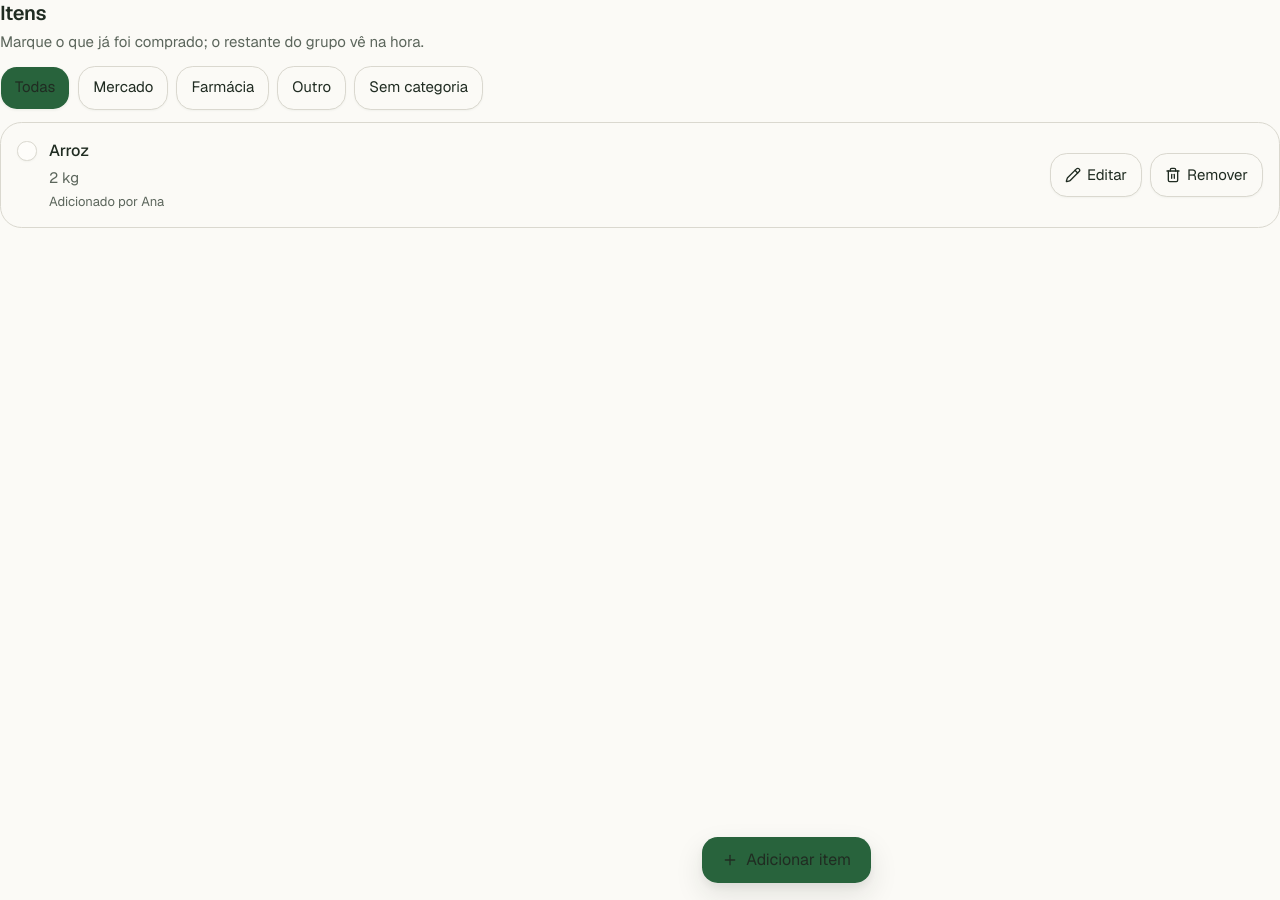
Test: ListItemsPanel › returns focus to the Edit button after closing the dialog
Step 1. Click the button "Editar" → (1096, 175), box [1050,153,1142,197]
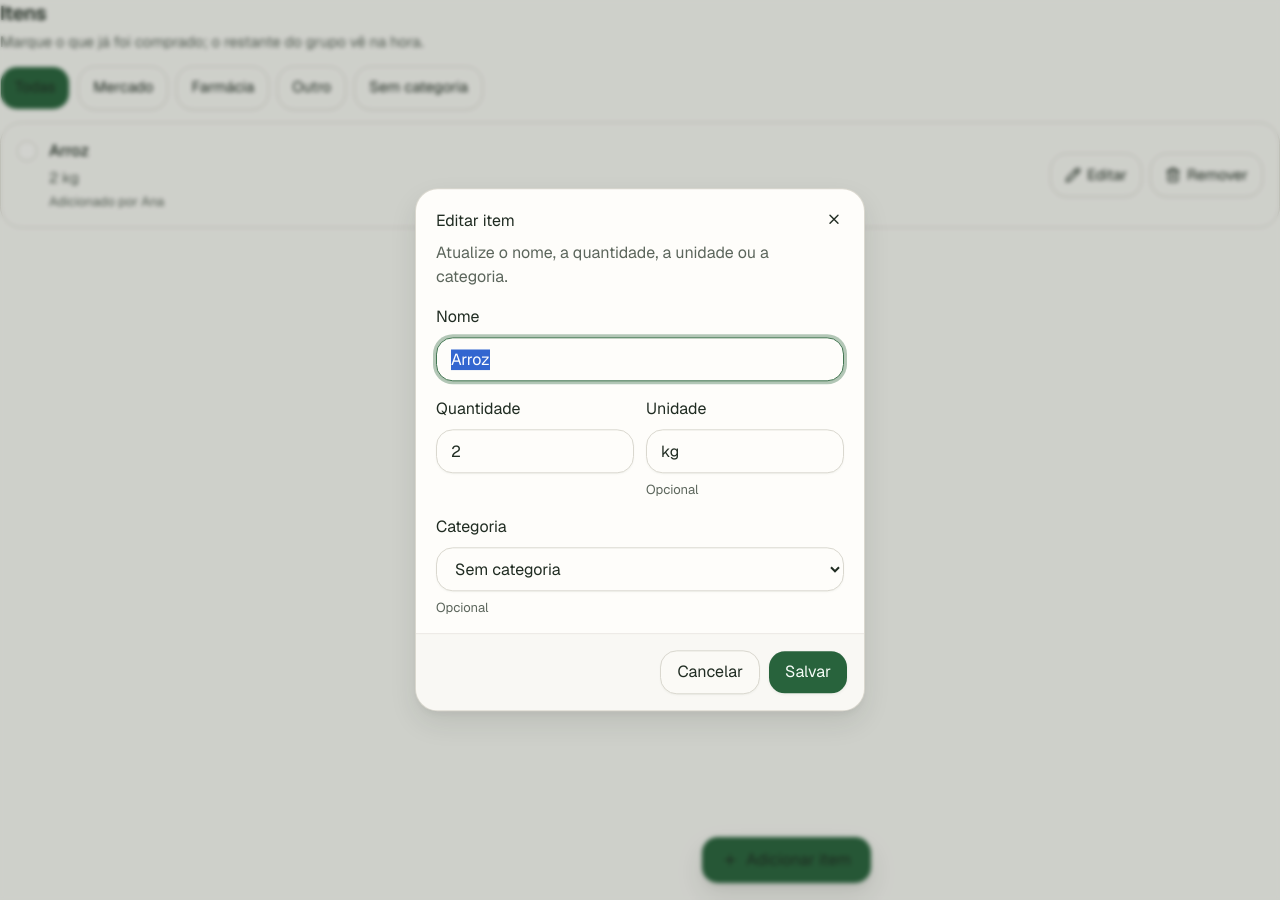
Step 2. Click the button "Cancelar" → (710, 673), box [660,651,760,695]
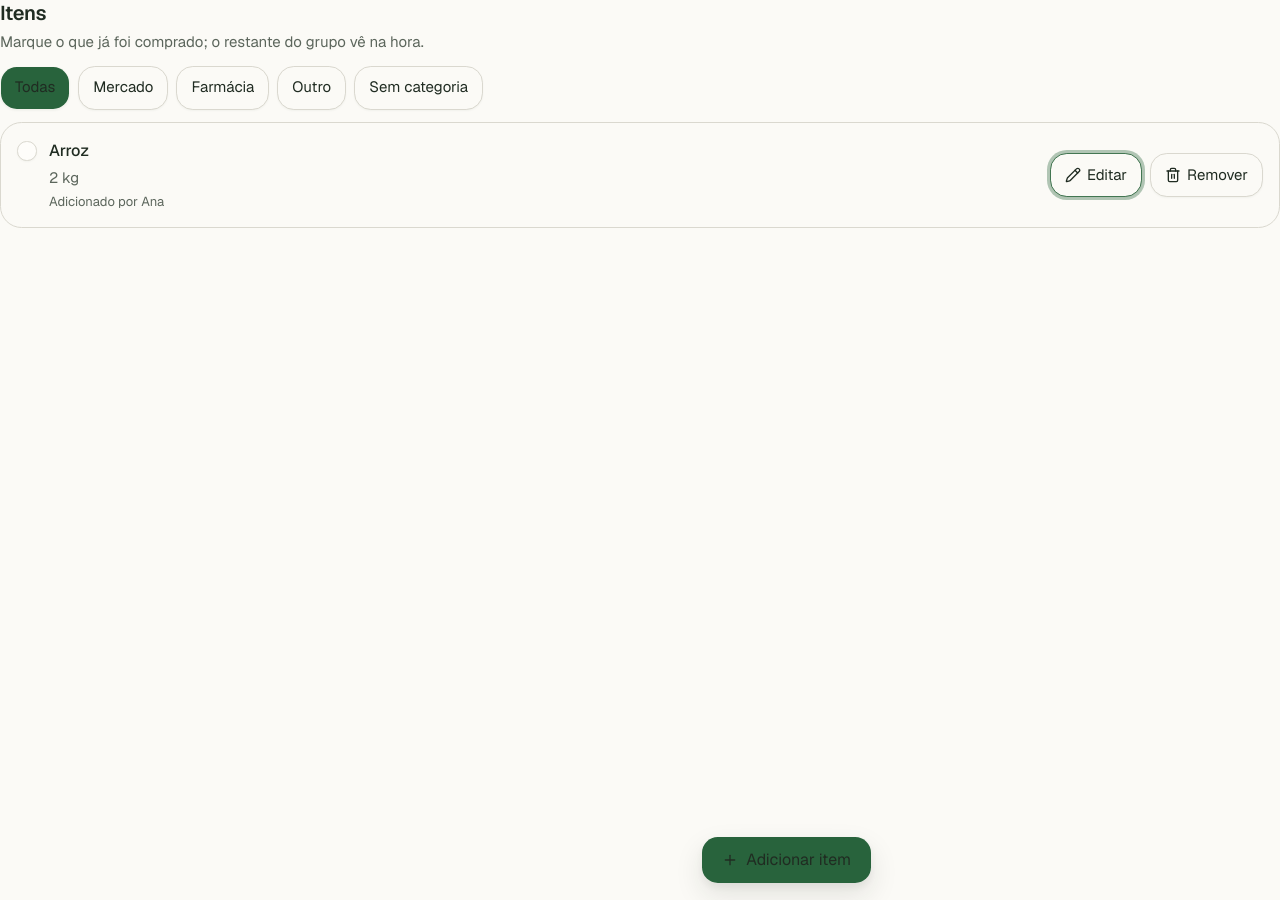
Result: the dialog is gone
